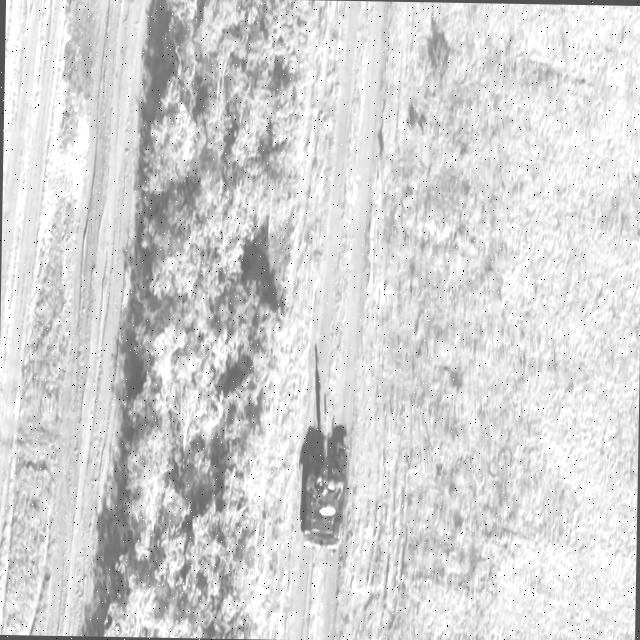APC: (300, 391, 350, 553)
